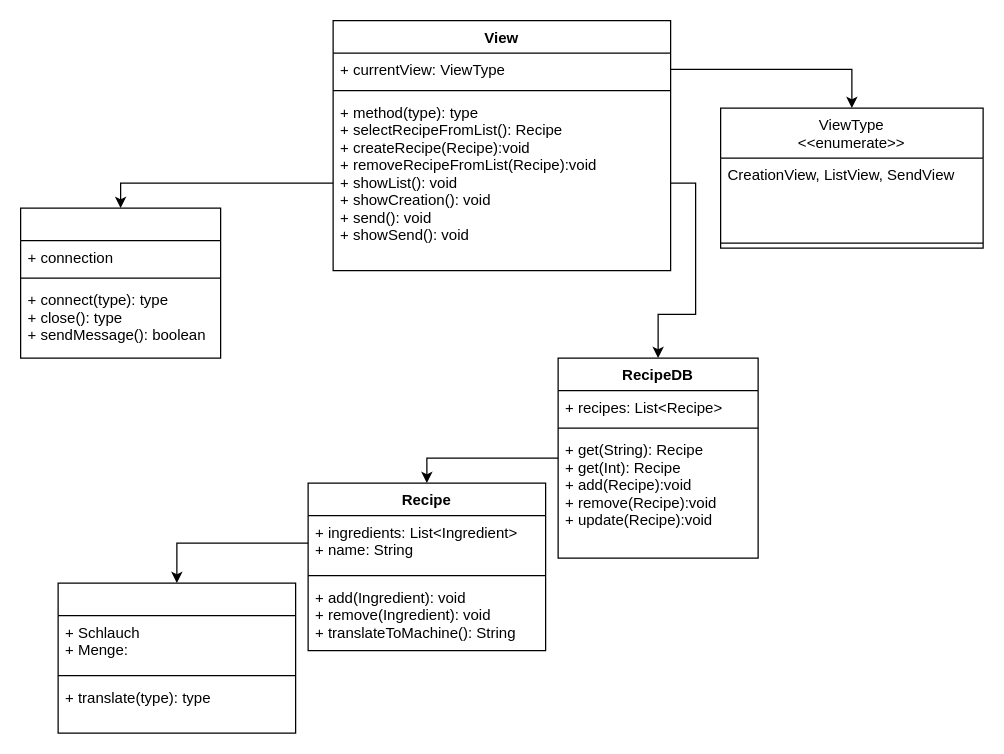
Image size: 1004x754. Some labels were removed from this diagram. The box of each missing label's shape, as (x1, y1, x2, y2) in pixels:
BluetoothConnector: (19, 207, 221, 358)
Ingredient: (57, 582, 296, 733)
